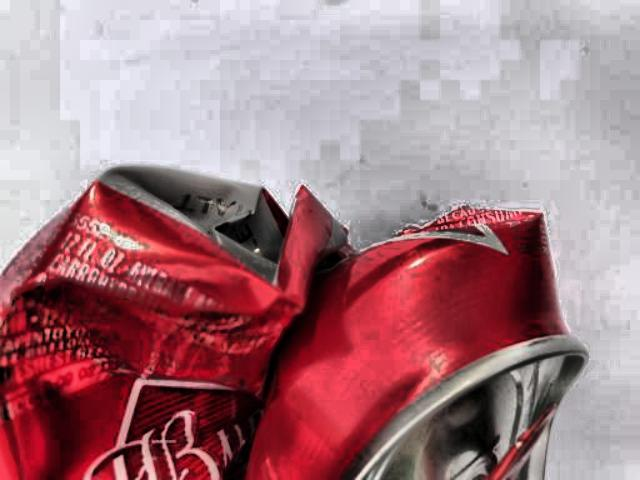Bottles: (0, 150, 605, 480)
